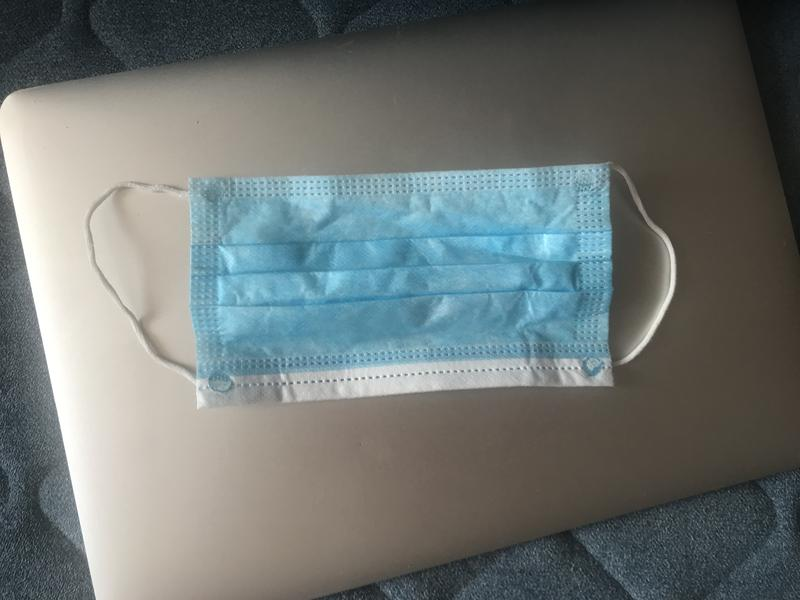medical_mask: (85, 161, 678, 409)
